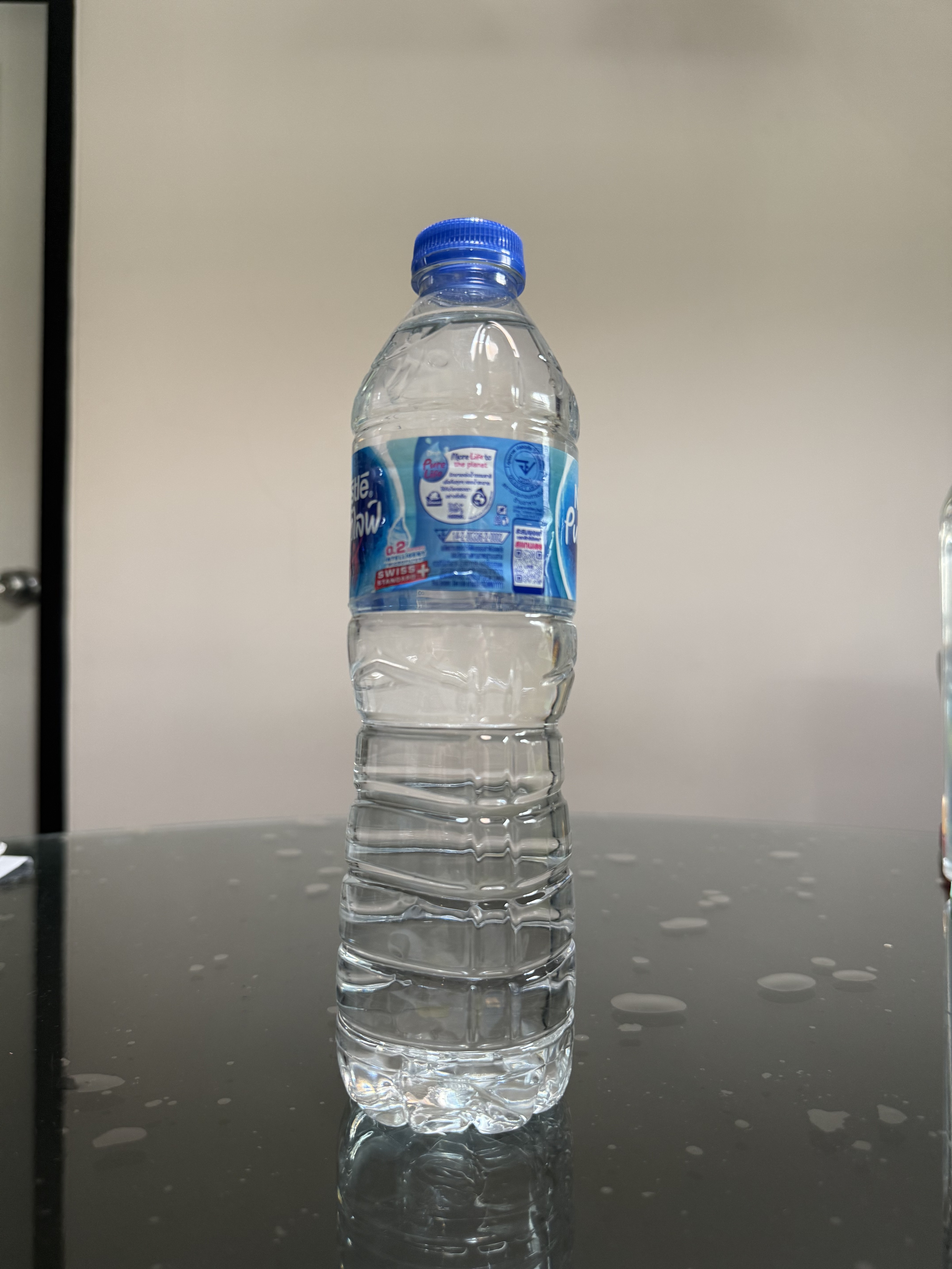closed_cap: (409, 214, 527, 297)
